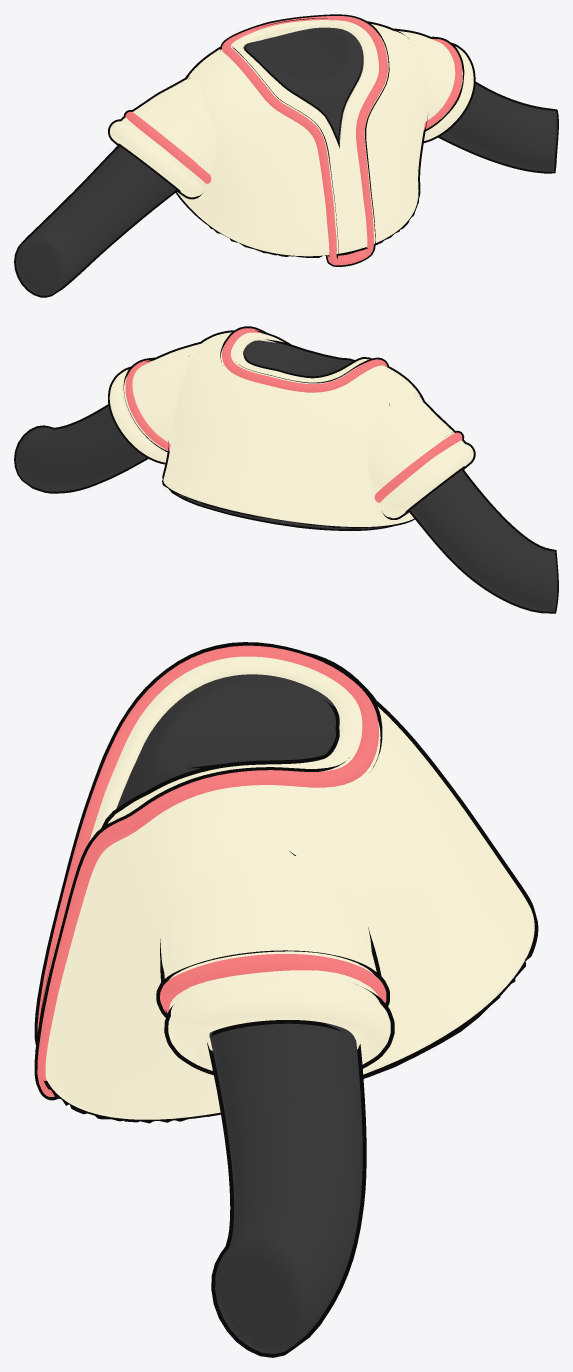
The model's file is TORSO.SPORT.BASEBALL.glb.
3 renders of one model, top to bottom at view 1: azimuth 30°, elevation 25°; view 2: azimuth 150°, elevation 25°; view 3: azimuth 270°, elevation 25°, orthographic. The views are drawn at different scales.
Visible parts, largest first — view 1: TORSO.SPORT.BASEBALL; view 2: TORSO.SPORT.BASEBALL; view 3: TORSO.SPORT.BASEBALL.
Part boxes in pixels (x1,y1,x2,y2): TORSO.SPORT.BASEBALL: (14,14,558,297); TORSO.SPORT.BASEBALL: (14,326,558,613); TORSO.SPORT.BASEBALL: (34,642,538,1357).
Bounding box in the file's own units: 2.39 × 0.8365 × 0.9578.
